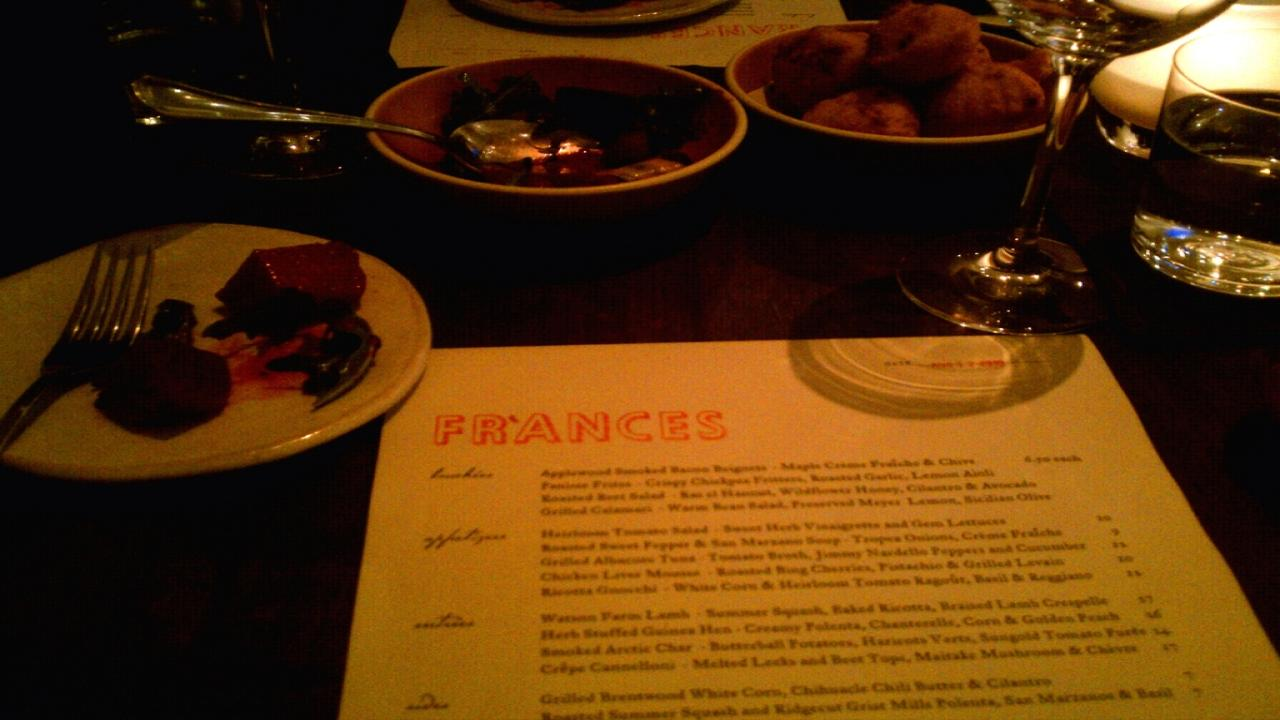fork: (1, 238, 162, 468)
